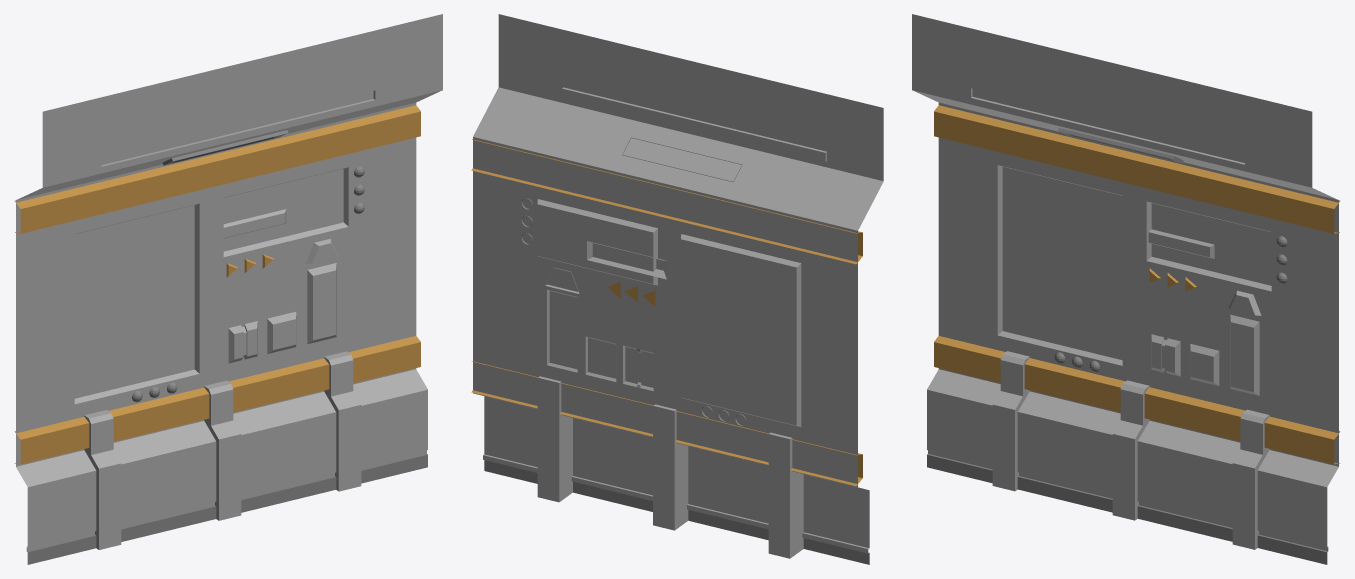
File: Wall_1_GD.glb
3 views of the same model, side by side, from view 1: azimuth 30°, elevation 25°; view 2: azimuth 150°, elevation 25°; view 3: azimuth 330°, elevation 25° (orthographic). The views are drawn at different scales.
Parts seen in each view (by area): view 1: Wall_1; view 2: Wall_1; view 3: Wall_1.
Boxes of the visible parts, left/top/right/bottom form: Wall_1: left=14, top=14, right=442, bottom=564; Wall_1: left=471, top=14, right=883, bottom=564; Wall_1: left=912, top=14, right=1340, bottom=564.
Size of the model in its own units: 30 by 33.23 by 4.09.
